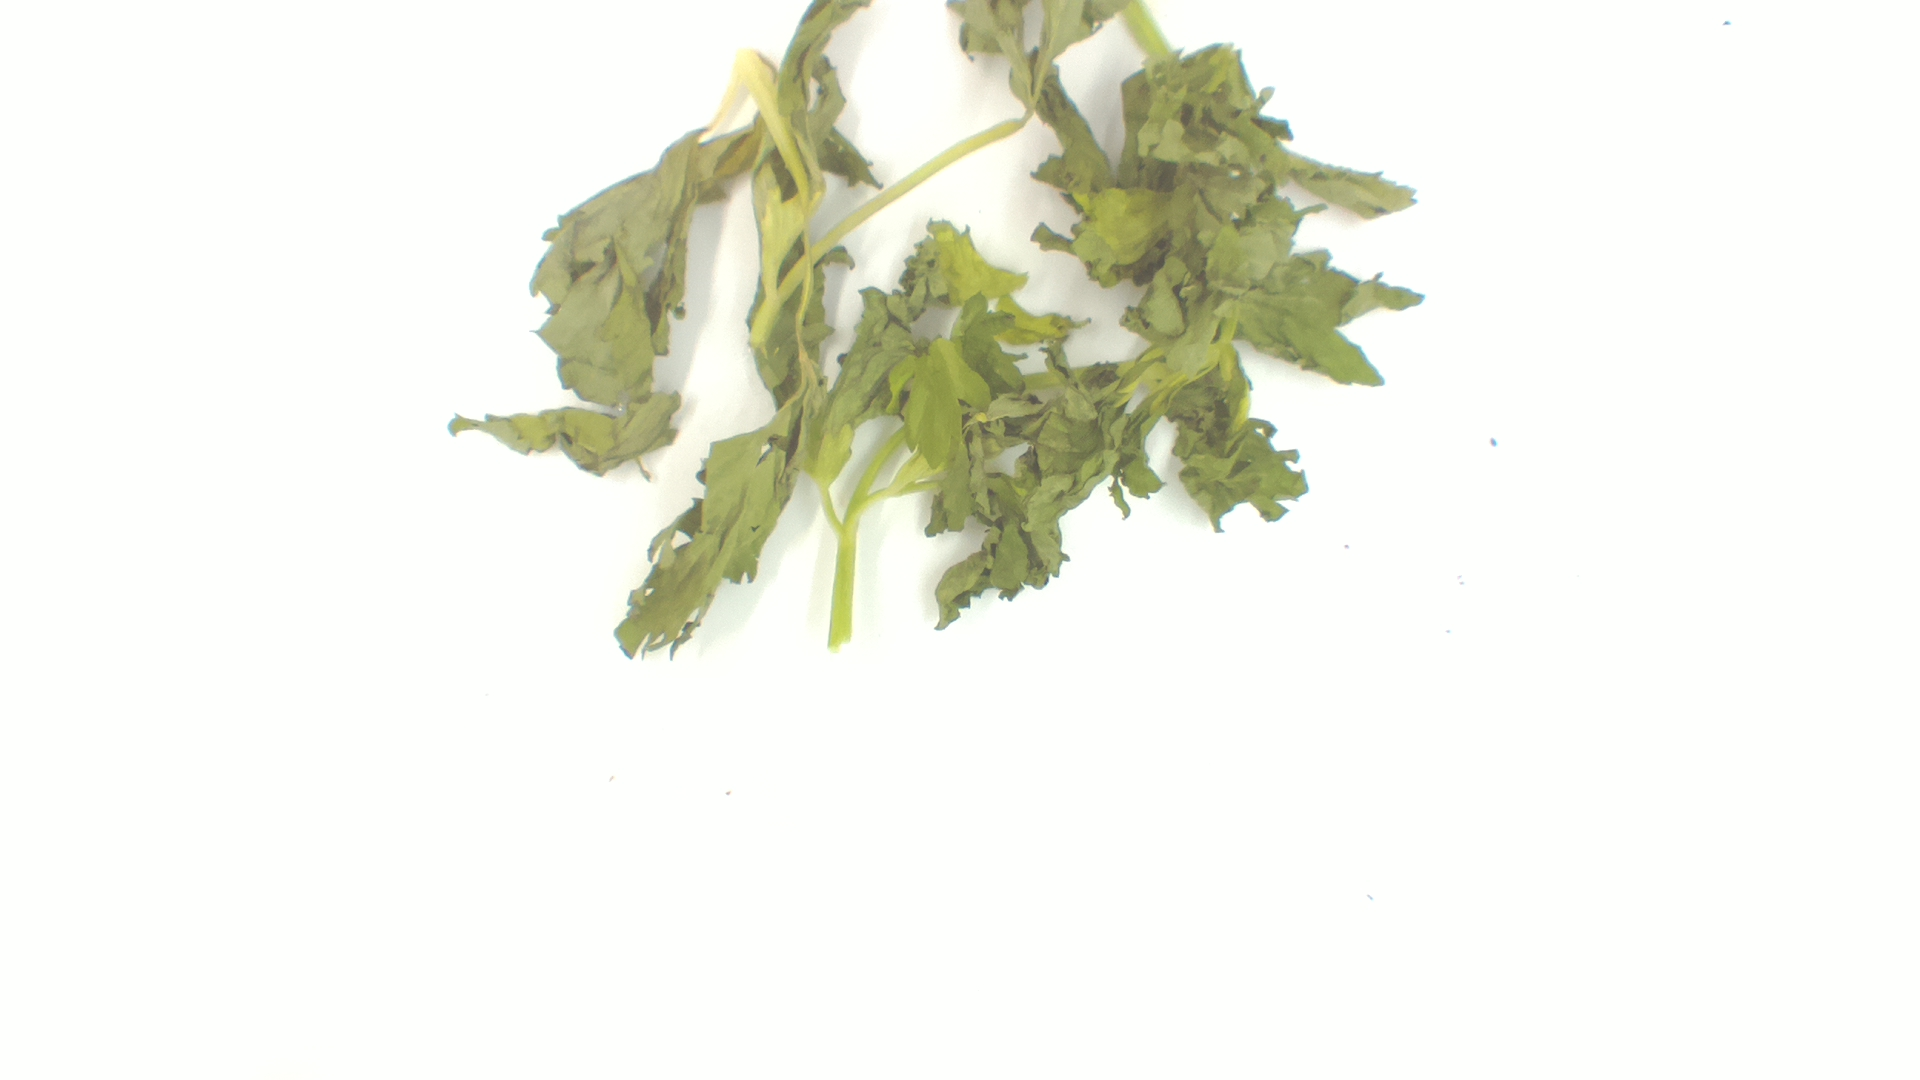vegetable: (438, 3, 1428, 669)
